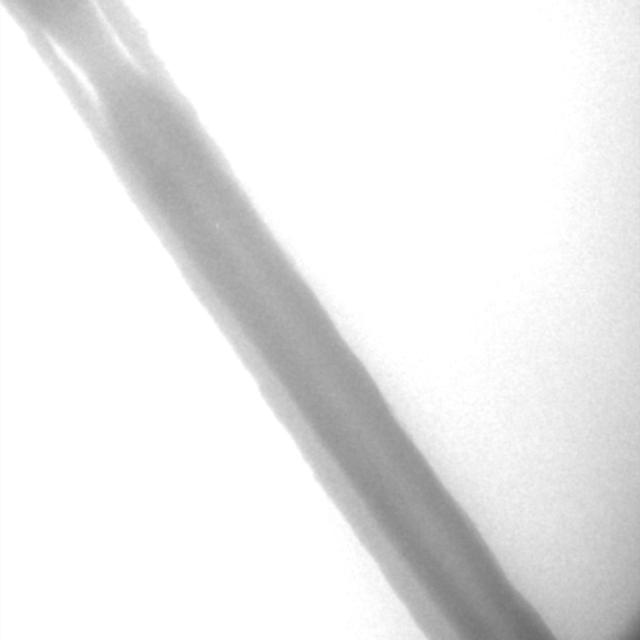unfused: (44, 1, 143, 106)
